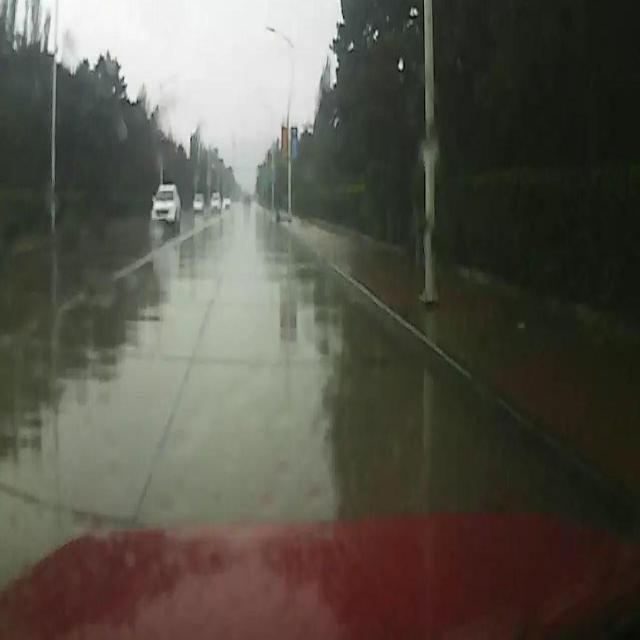car: (150, 183, 180, 235), (190, 190, 205, 212), (211, 192, 221, 210), (224, 192, 232, 208), (243, 196, 250, 208)
